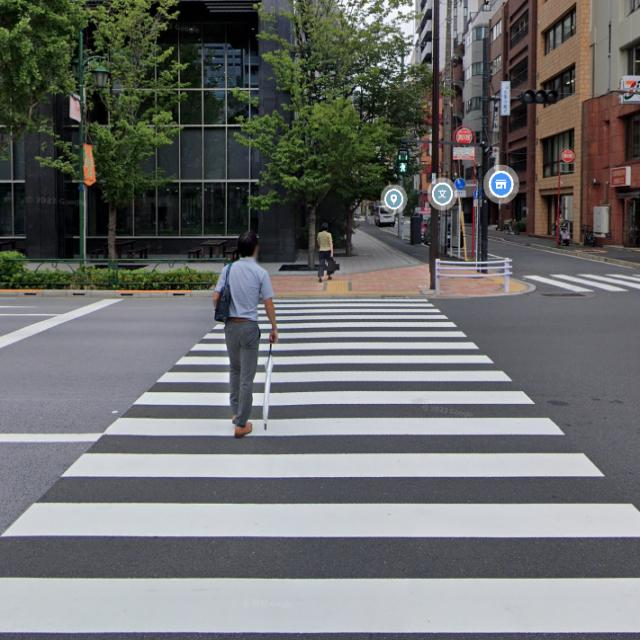traffic-light: (396, 150, 407, 170)
